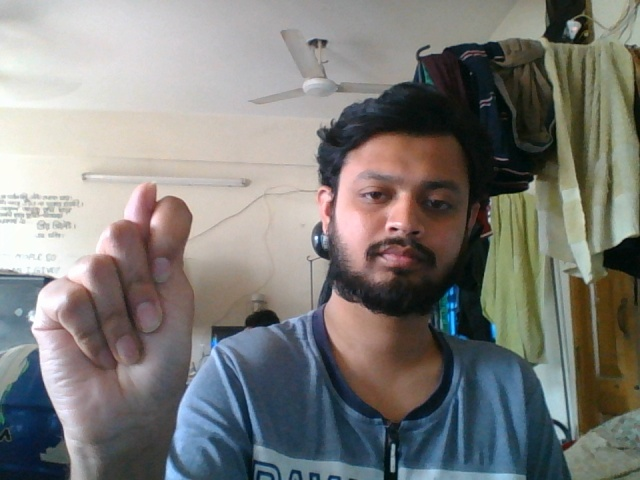ta: (31, 175, 204, 434)
